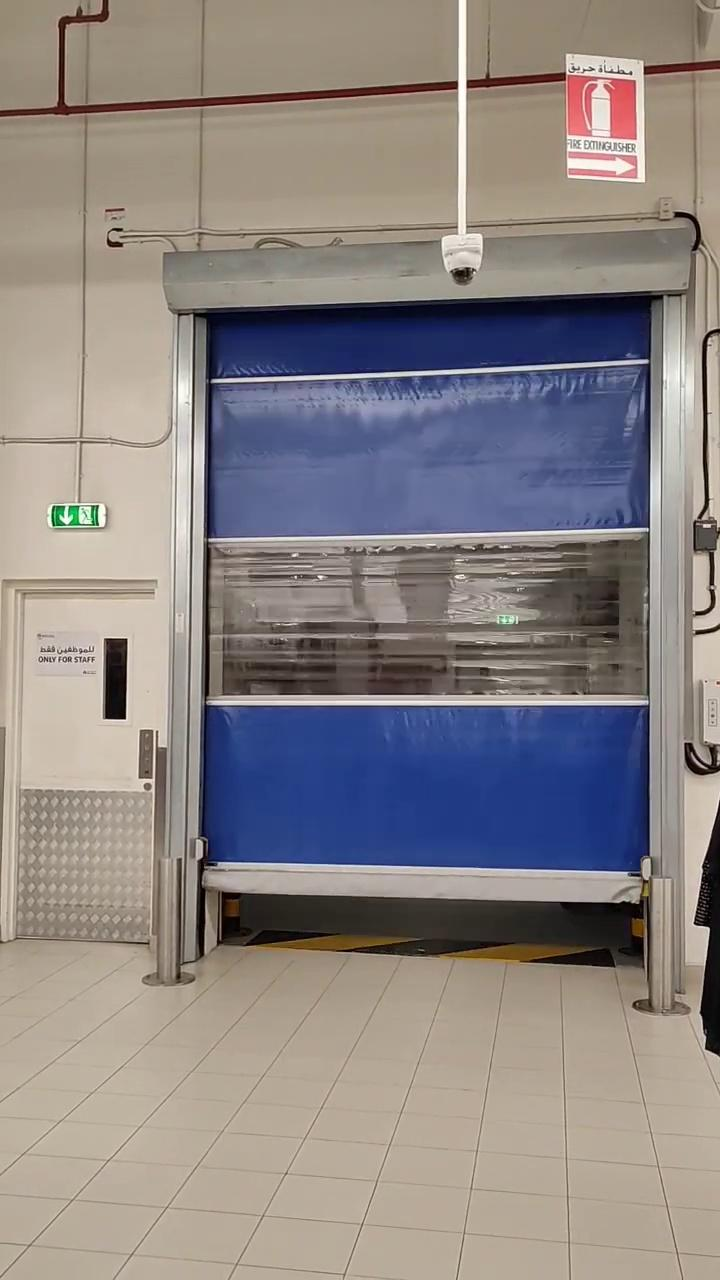Strip: (248, 925, 611, 969)
